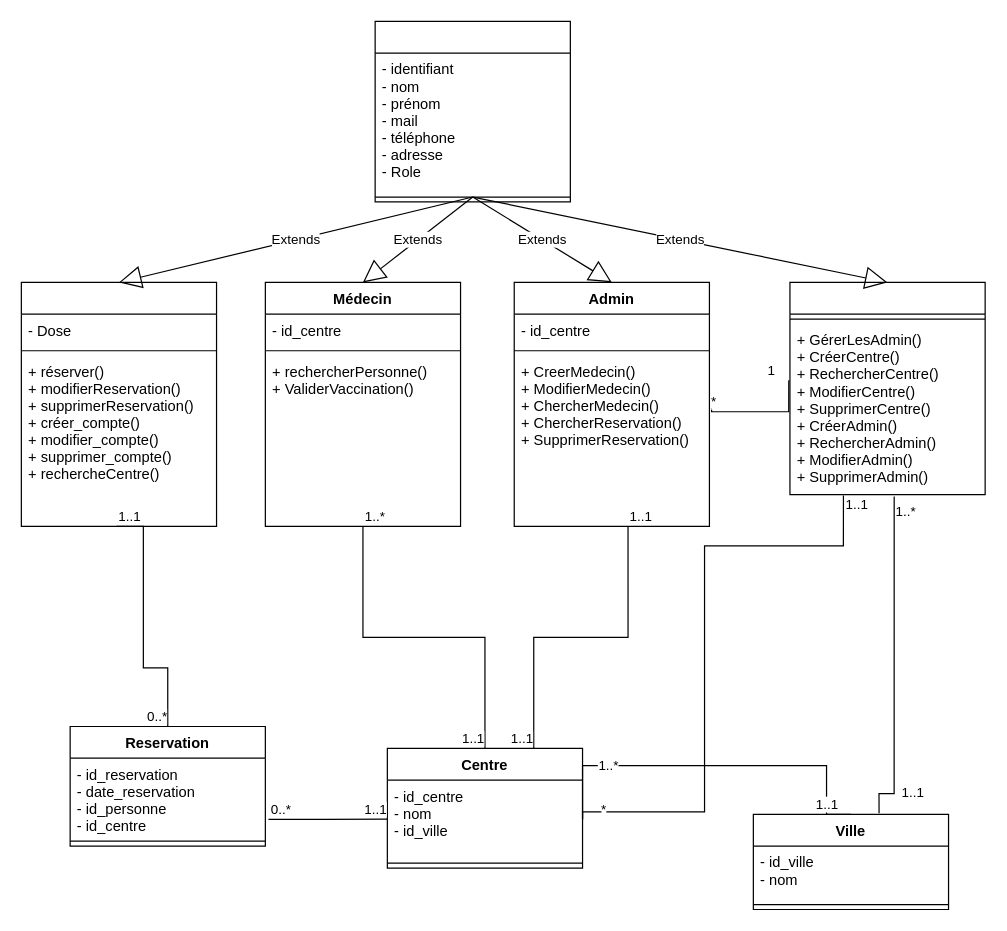
This 1007x931 diagram has some shape labels left out. The shapes that lost their labels are listed below. From the top down, each one's box as (x1, y1, x2, y2) in pixels, then its label:
(374, 20, 570, 202): Personne
(20, 281, 217, 526): Public
(789, 281, 985, 495): Superadmin
